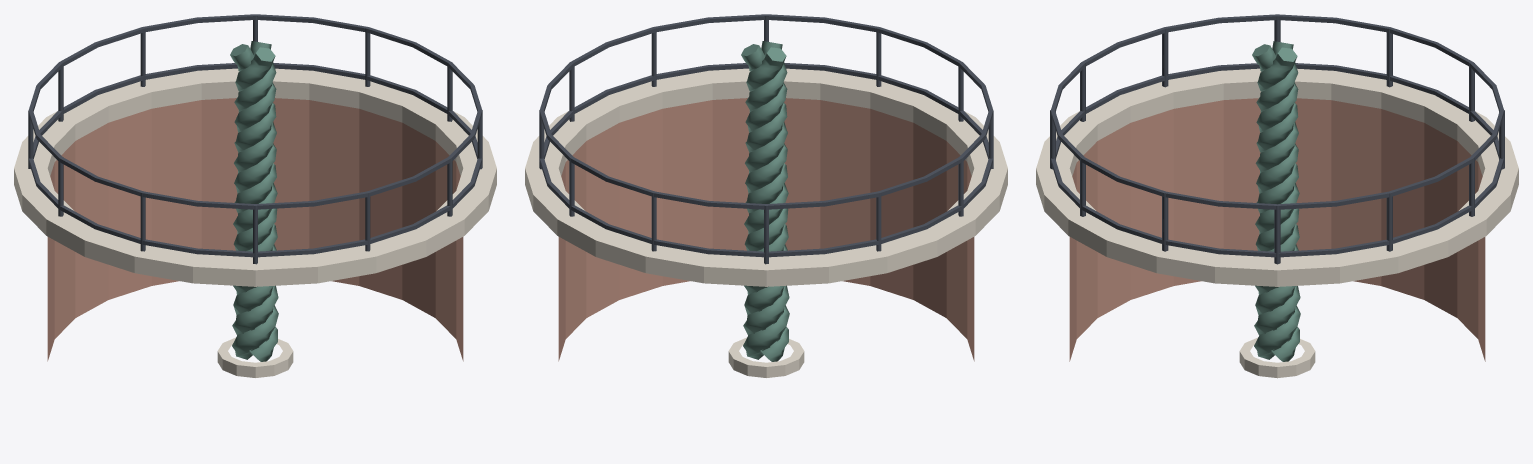
The model's file is istanbul-serpent-column.glb.
3 renders of one model, left to right at view 1: azimuth 30°, elevation 25°; view 2: azimuth 150°, elevation 25°; view 3: azimuth 270°, elevation 25°, orthographic.
Parts seen in each view (by area): view 1: Serpent Column; view 2: Serpent Column; view 3: Serpent Column.
Part boxes in pixels (x1,y1,x2,y2): Serpent Column: (14, 14, 496, 377); Serpent Column: (525, 14, 1007, 377); Serpent Column: (1036, 14, 1518, 378).
Bounding box in the file's own units: 7.9 × 5.73 × 7.9.
